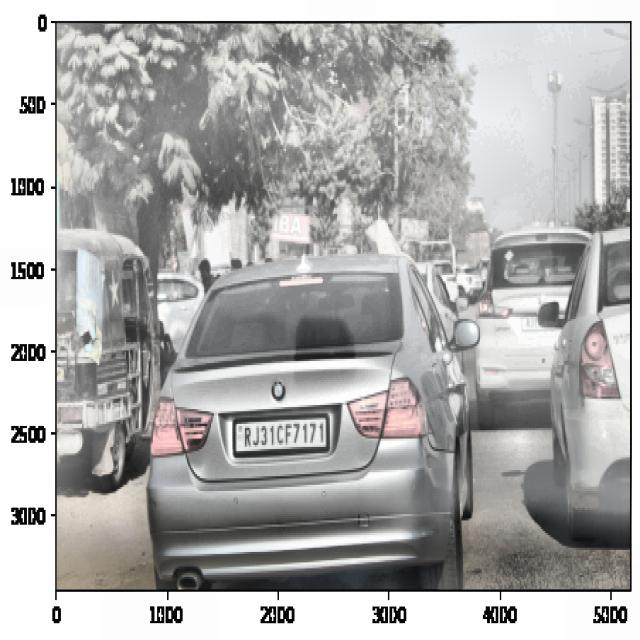license_plate: (237, 419, 333, 456)
